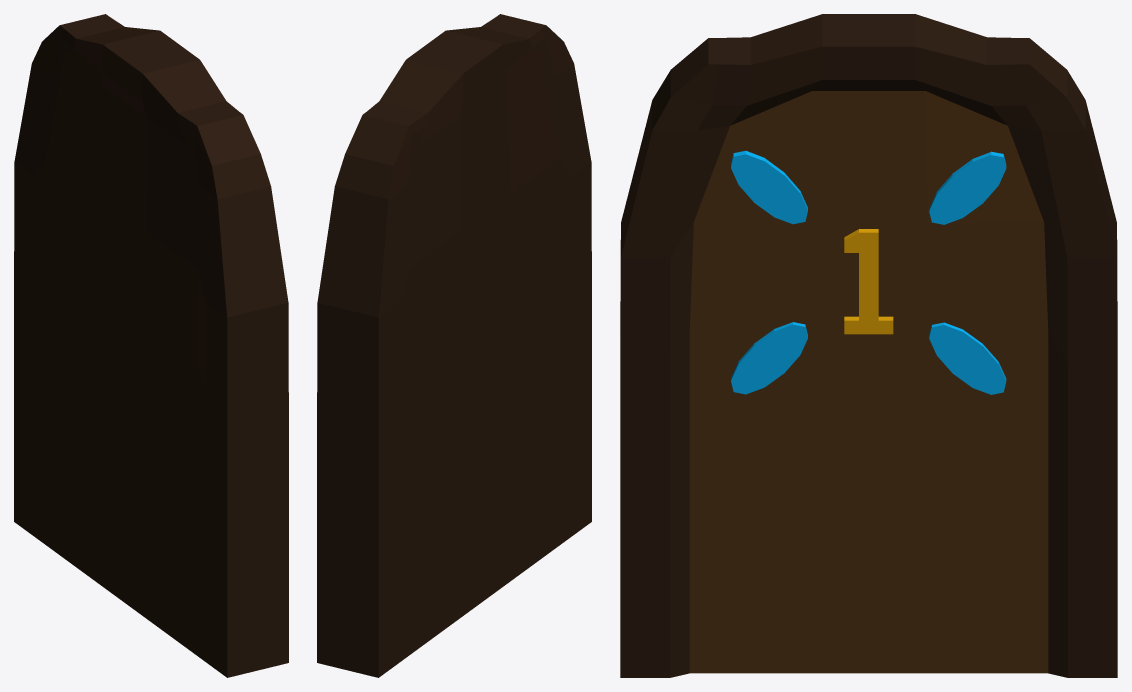
File: Door1.glb
3 renders of one model, left to right at view 1: azimuth 30°, elevation 25°; view 2: azimuth 150°, elevation 25°; view 3: azimuth 270°, elevation 25°, orthographic. The views are drawn at different scales.
Parts seen in each view (by area): view 1: door1; view 2: door1; view 3: door1, Cube.
Boxes of the visible parts, x1,y1,x2,y2 form: door1: (14, 14, 288, 677); door1: (317, 14, 591, 677); door1: (620, 14, 1117, 677); Cube: (844, 229, 893, 334).
Bounding box in the file's own units: 0.3892 × 3.27 × 2.34.
